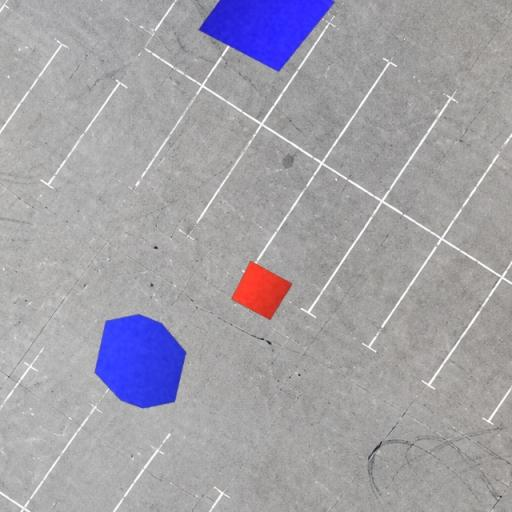BLUE_SQUARE: (198, 0, 336, 73)
RED_SQUARE: (230, 261, 294, 321)
